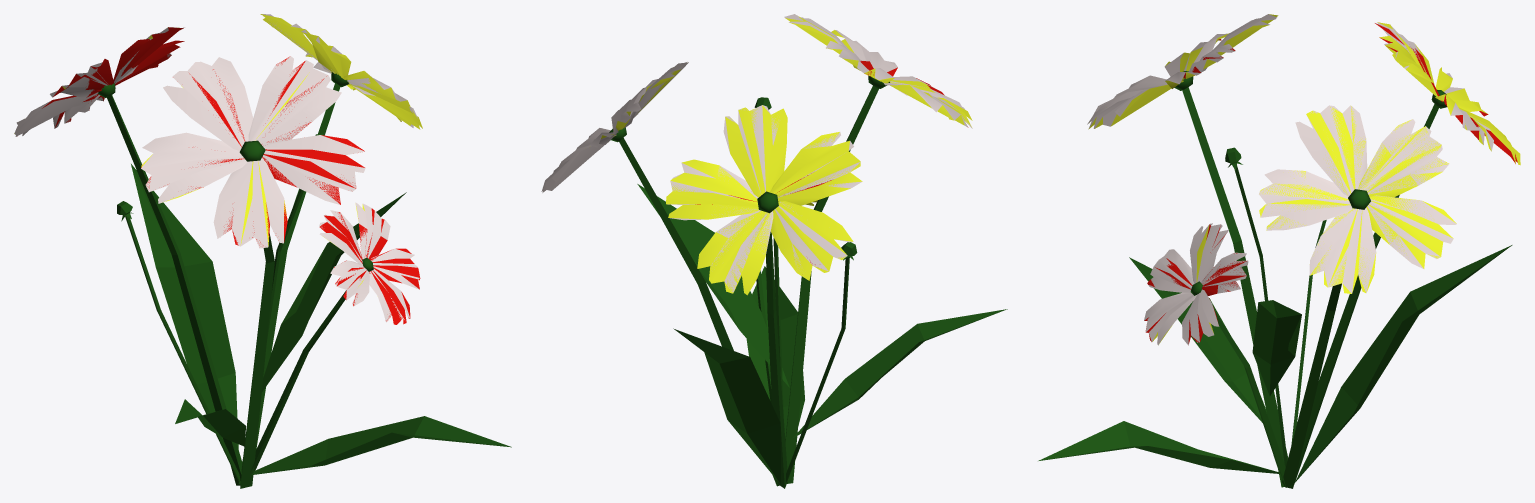
The model's file is flowers.glb.
The picture shows the model from 3 angles, left to right: view 1: azimuth 30°, elevation 25°; view 2: azimuth 150°, elevation 25°; view 3: azimuth 270°, elevation 25°; orthographic projection.
Parts seen in each view (by area): view 1: White_flower, Red_flower, Yellow_flower; view 2: Yellow_flower, White_flower, Red_flower; view 3: White_flower, Yellow_flower, Red_flower.
Part boxes in pixels (bbox=[...]): White_flower: bbox=[14, 14, 511, 488]; Red_flower: bbox=[17, 27, 510, 486]; Yellow_flower: bbox=[14, 14, 422, 486]; Yellow_flower: bbox=[601, 16, 1007, 488]; White_flower: bbox=[541, 14, 972, 487]; Red_flower: bbox=[695, 60, 968, 476]; White_flower: bbox=[1038, 14, 1493, 488]; Yellow_flower: bbox=[1088, 14, 1520, 488]; Red_flower: bbox=[1144, 23, 1517, 486].
Bounding box in the file's own units: 1.44 × 1.77 × 1.74.
